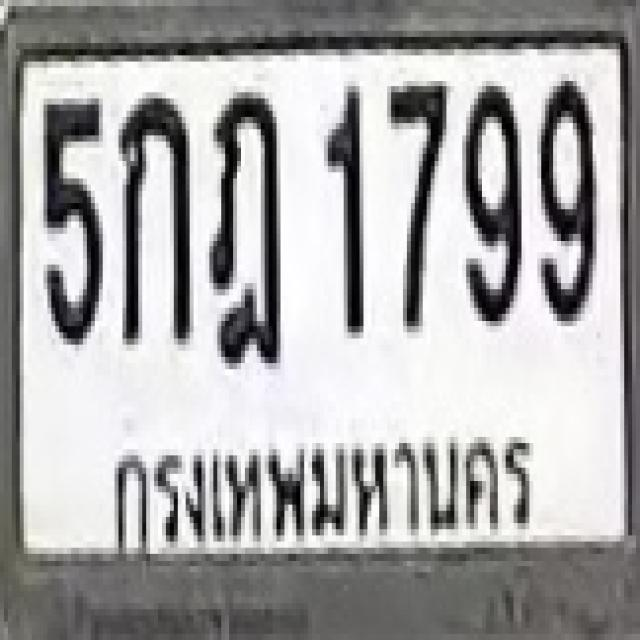-: (206, 86, 276, 363), (114, 92, 190, 338)
1: (322, 80, 361, 332)
5: (39, 92, 99, 338)
7: (383, 80, 443, 326)
9: (537, 74, 593, 320), (462, 80, 518, 320)
BKK: (94, 401, 555, 567)
